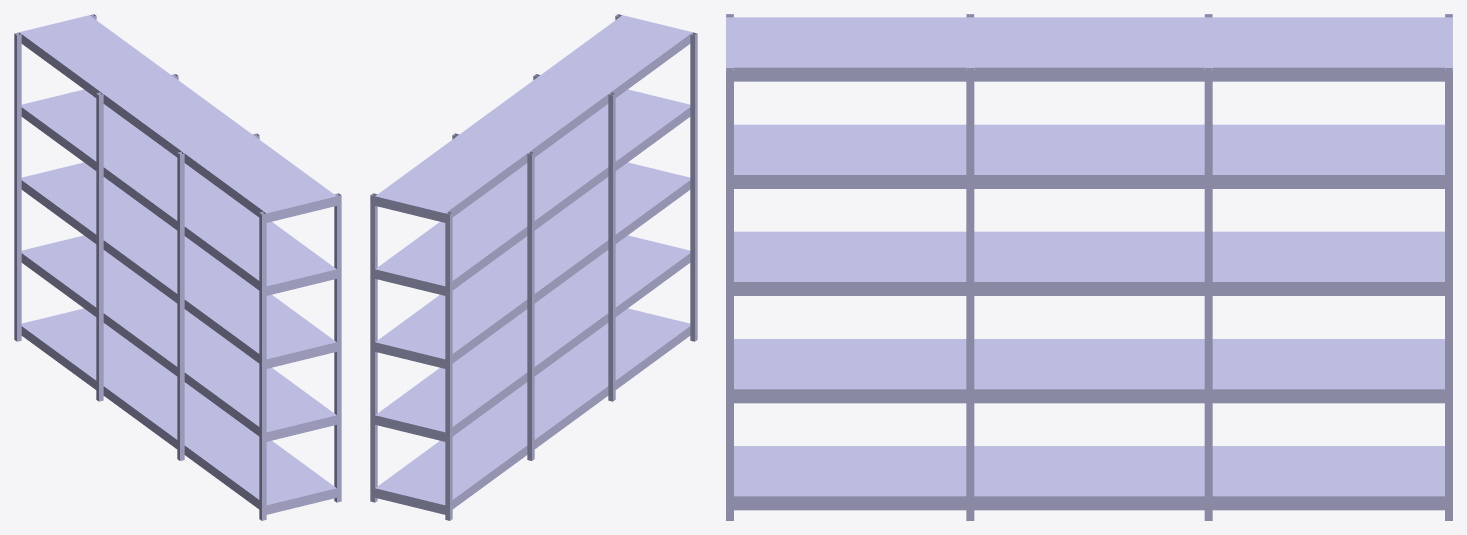
Rendered from shelf.dae.
3 renders of one model, left to right at view 1: azimuth 30°, elevation 25°; view 2: azimuth 150°, elevation 25°; view 3: azimuth 270°, elevation 25°, orthographic. The views are drawn at different scales.
Parts seen in each view (by area): view 1: node4, node11, node14, node10, node0, node1, node36, node39, node41, node37, node3, node18 (+8 smaller); view 2: node4, node11, node14, node10, node0, node1, node36, node39, node41, node38, node3, node18 (+8 smaller); view 3: node4, node11, node0, node10, node14, node15, node6, node2, node17, node20, node40, node42 (+2 smaller).
Boxes of the visible parts, <box> form: node4: <box>19,15,336,215</box>; node11: <box>21,162,336,361</box>; node14: <box>21,89,336,288</box>; node10: <box>21,235,336,434</box>; node0: <box>21,308,336,507</box>; node1: <box>14,32,21,341</box>; node36: <box>259,211,266,520</box>; node39: <box>96,92,103,401</box>; node41: <box>177,151,184,460</box>; node37: <box>334,193,341,502</box>; node3: <box>21,36,260,217</box>; node18: <box>21,182,259,363</box>; node4: <box>375,15,692,215</box>; node11: <box>375,162,690,361</box>; node14: <box>375,89,690,288</box>; node10: <box>375,235,690,434</box>; node0: <box>375,308,690,507</box>; node1: <box>445,211,452,520</box>; node36: <box>690,32,697,341</box>; node39: <box>527,151,534,460</box>; node41: <box>608,92,615,401</box>; node38: <box>370,193,377,502</box>; node3: <box>451,36,690,217</box>; node18: <box>452,182,690,363</box>; node4: <box>726,17,1452,70</box>; node11: <box>734,231,1444,285</box>; node0: <box>734,446,1444,499</box>; node10: <box>734,339,1444,392</box>; node14: <box>734,124,1444,177</box>; node15: <box>734,392,1444,403</box>; node6: <box>734,499,1444,510</box>; node2: <box>734,71,1444,81</box>; node17: <box>734,285,1444,295</box>; node20: <box>734,178,1444,188</box>; node40: <box>1204,67,1212,520</box>; node42: <box>966,67,974,520</box>.
Size of the model in its own units: 0.68 by 3.66 by 2.5.
